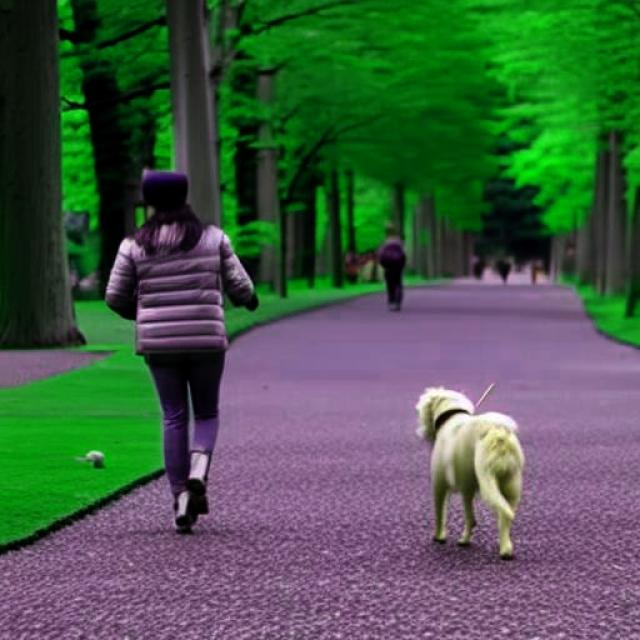Unleashed_Dog: (142, 352, 526, 559)
